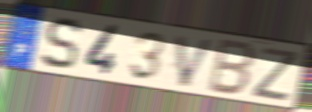3: (129, 31, 166, 81)
4: (82, 21, 122, 78)
B: (205, 36, 259, 98)
S: (39, 16, 84, 72)
V: (173, 33, 217, 89)
Z: (250, 45, 301, 103)
